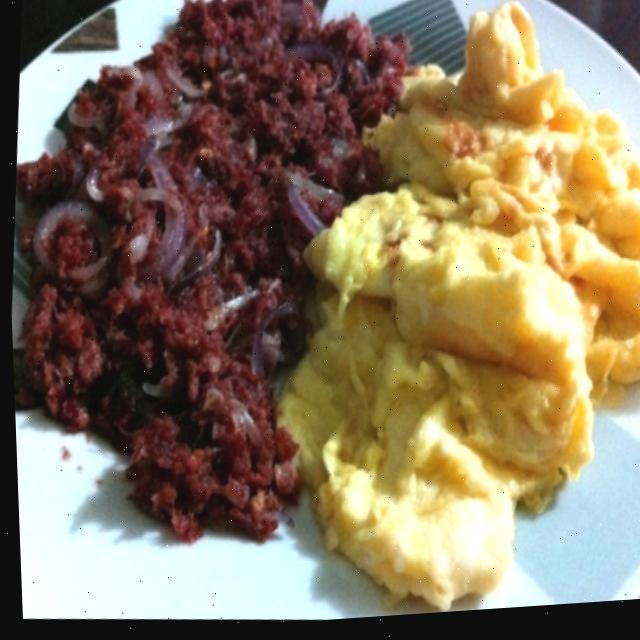鸡蛋料理: (277, 0, 640, 625)
